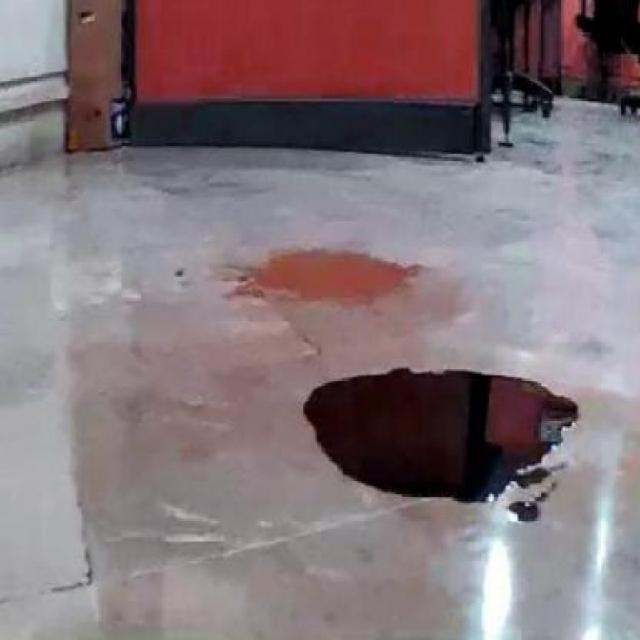spillage: (303, 369, 578, 524), (235, 251, 417, 304)
